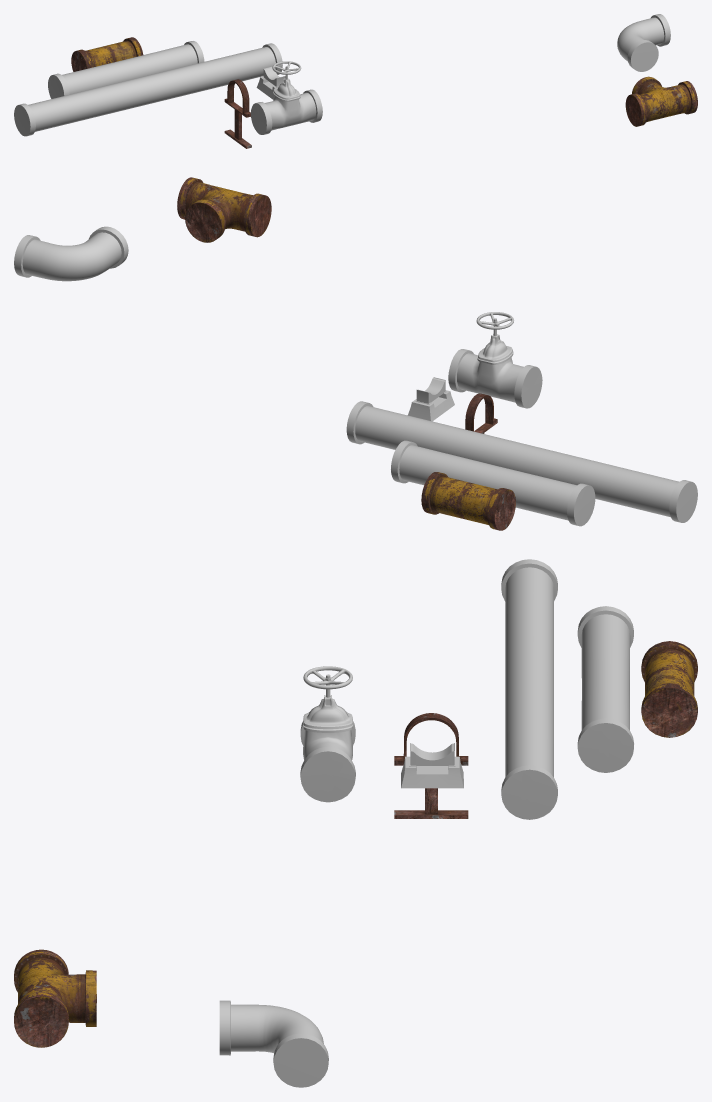
File: Tuberias.fbx
3 renders of one model, top to bottom at view 1: azimuth 30°, elevation 25°; view 2: azimuth 150°, elevation 25°; view 3: azimuth 270°, elevation 25°, orthographic. The views are drawn at different scales.
Parts seen in each view (by area): view 1: I _3, I _2, Wellhead_1, T_1, L_1, I _1, Support_1, Support_3; view 2: I _3, I _2, Wellhead_1, L_1, T_1, I _1, Support_3, Support_1; view 3: I _3, I _2, L_1, T_1, Wellhead_1, I _1, Support_3, Support_1.
Boxes of the visible parts, bbox=[...] form: I _3: bbox=[14, 43, 282, 136]; I _2: bbox=[48, 41, 204, 98]; Wellhead_1: bbox=[250, 61, 322, 134]; T_1: bbox=[625, 76, 697, 126]; L_1: bbox=[617, 14, 670, 71]; I _1: bbox=[71, 37, 143, 71]; Support_1: bbox=[224, 79, 251, 148]; Support_3: bbox=[256, 66, 285, 99]; I _3: bbox=[346, 401, 697, 522]; I _2: bbox=[391, 440, 595, 526]; Wellhead_1: bbox=[448, 312, 542, 408]; L_1: bbox=[14, 226, 128, 281]; T_1: bbox=[177, 177, 271, 242]; I _1: bbox=[421, 472, 515, 530]; Support_3: bbox=[407, 377, 454, 421]; Support_1: bbox=[465, 393, 497, 433]; I _3: bbox=[501, 559, 557, 819]; I _2: bbox=[577, 606, 633, 772]; L_1: bbox=[219, 1000, 328, 1087]; T_1: bbox=[14, 949, 96, 1047]; Wellhead_1: bbox=[300, 666, 355, 802]; I _1: bbox=[641, 641, 697, 737]; Support_3: bbox=[401, 743, 463, 788]; Support_1: bbox=[394, 713, 468, 818].
Bounding box in the file's own units: 1022 × 156 × 617.
